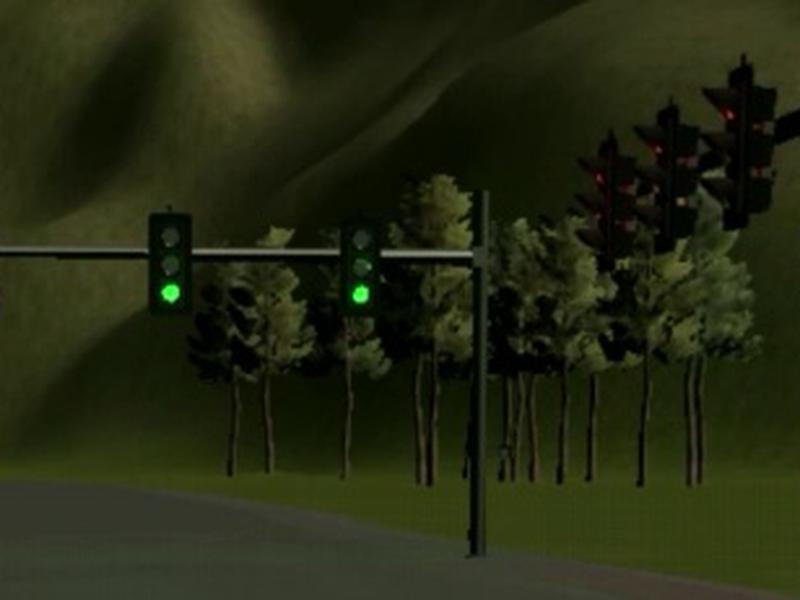Green: (148, 211, 193, 315), (340, 216, 382, 315)
